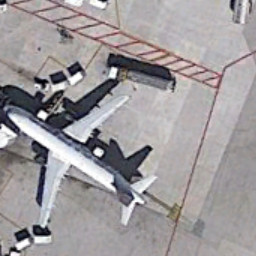Airplane: (1, 85, 167, 244)
